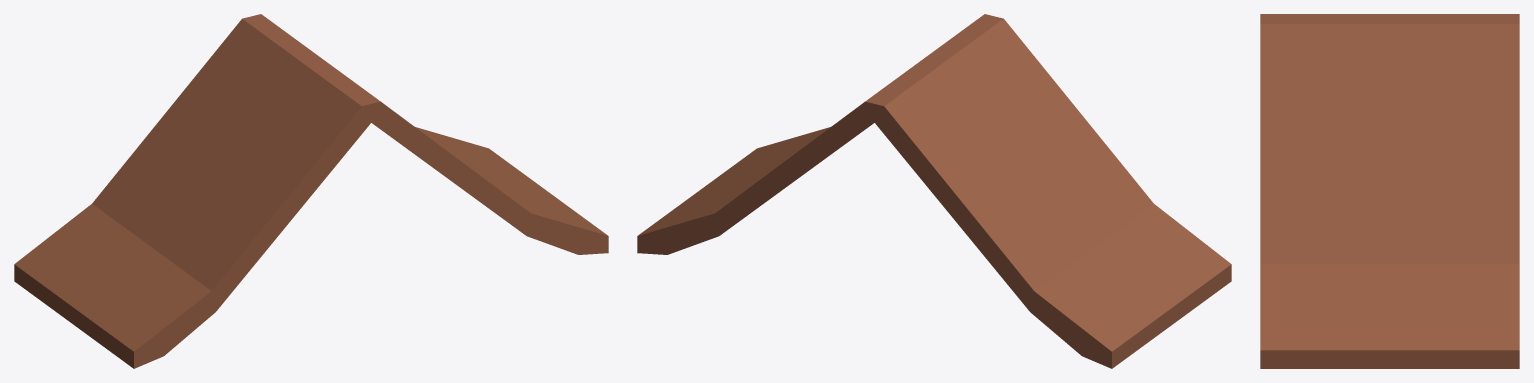
Rendered from byre_roof_bay.glb.
3 renders of one model, left to right at view 1: azimuth 30°, elevation 25°; view 2: azimuth 150°, elevation 25°; view 3: azimuth 270°, elevation 25°, orthographic. The views are drawn at different scales.
Visible parts, largest first — view 1: Byre roof bay; view 2: Byre roof bay; view 3: Byre roof bay.
Boxes of the visible parts, bbox=[...] form: Byre roof bay: bbox=[14, 14, 608, 368]; Byre roof bay: bbox=[637, 14, 1231, 368]; Byre roof bay: bbox=[1260, 14, 1519, 368].
Bounding box in the file's own units: 2.29 × 0.955 × 1.
